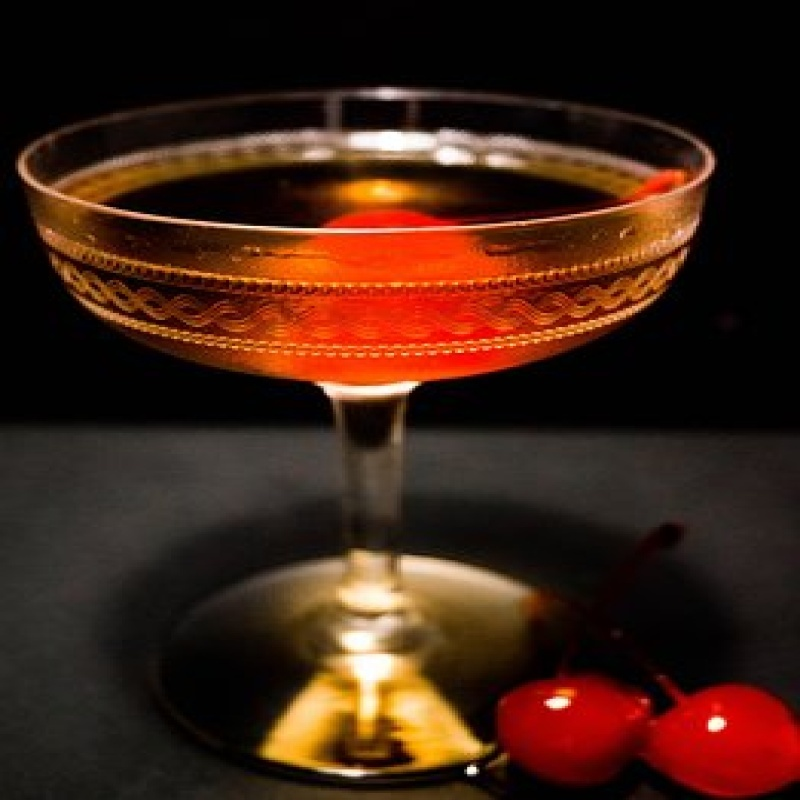whiskey: (14, 88, 722, 380)
